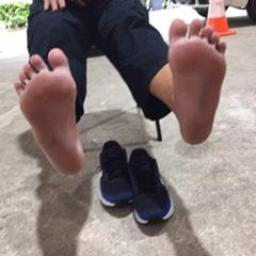Plantar View -Both Feet-: (12, 15, 237, 176)
